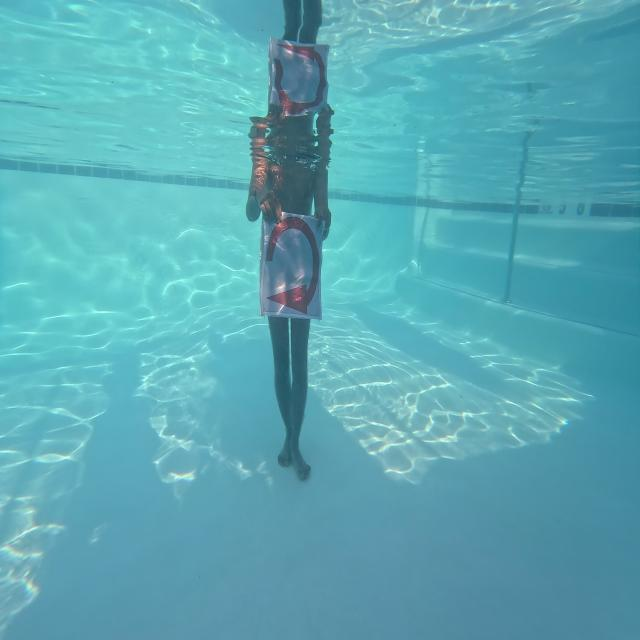red_side: (262, 212, 321, 320)
